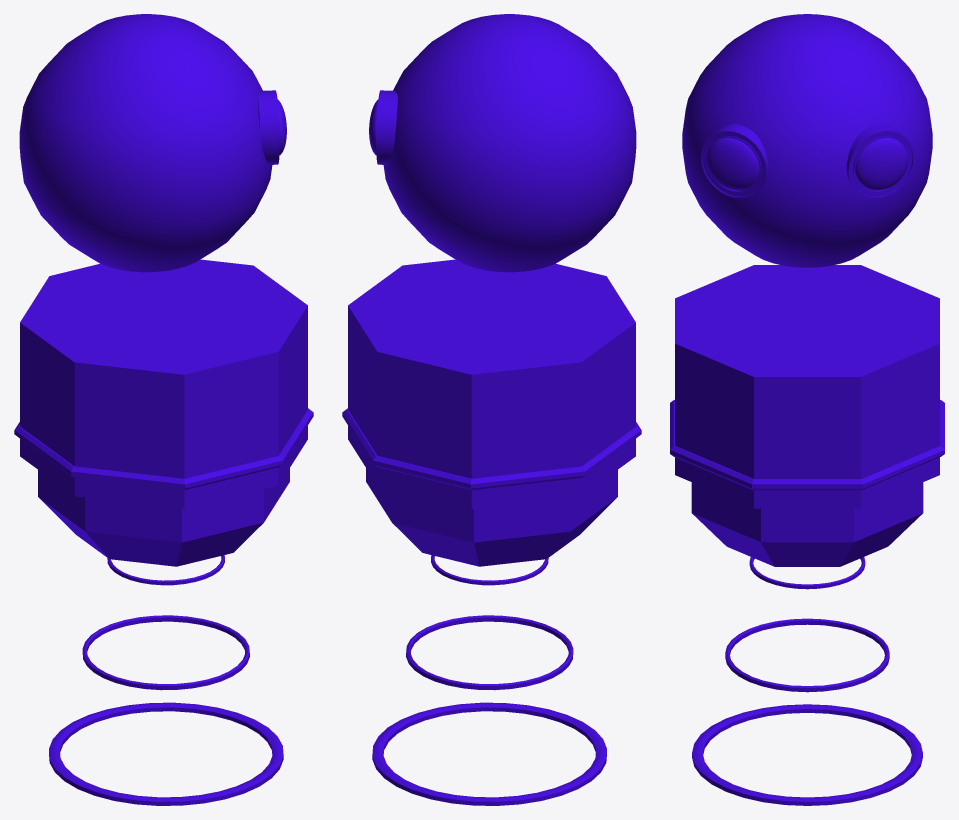
File: fbx_CompanionHoverSP.fbx
The picture shows the model from 3 angles, left to right: view 1: azimuth 30°, elevation 25°; view 2: azimuth 150°, elevation 25°; view 3: azimuth 270°, elevation 25°; orthographic projection.
Parts seen in each view (by area): view 1: Cube, Cylinder.013, Cylinder.010, Cube.003, Cylinder.009, Cylinder.012, Cylinder.007; view 2: Cube, Cylinder.013, Cylinder.010, Cube.003, Cylinder.009, Cylinder.012, Cylinder.007; view 3: Cube, Cylinder.013, Cylinder.010, Sphere, Cube.003, Cylinder.012, Cylinder.009, Cylinder.007.
Part boxes in pixels (box(x1,y1,x2,y2)): Cube: box(20, 259, 307, 566); Cylinder.013: box(19, 14, 272, 272); Cylinder.010: box(49, 702, 283, 805); Cube.003: box(14, 408, 313, 490); Cylinder.009: box(82, 615, 249, 690); Cylinder.012: box(258, 90, 279, 164); Cylinder.007: box(107, 555, 224, 585); Cube: box(348, 259, 635, 566); Cylinder.013: box(383, 14, 636, 272); Cylinder.010: box(372, 702, 606, 805); Cube.003: box(342, 408, 641, 490); Cylinder.009: box(406, 615, 573, 690); Cylinder.012: box(376, 90, 397, 164); Cylinder.007: box(431, 555, 548, 585); Cube: box(675, 265, 939, 566); Cylinder.013: box(682, 14, 932, 267); Cylinder.010: box(692, 704, 922, 805); Sphere: box(706, 137, 908, 190); Cube.003: box(670, 400, 944, 490); Cylinder.012: box(700, 124, 914, 198); Cylinder.009: box(725, 618, 889, 692); Cylinder.007: box(749, 557, 865, 589).
Size of the model in its own units: 51.06 by 145 by 49.77.
